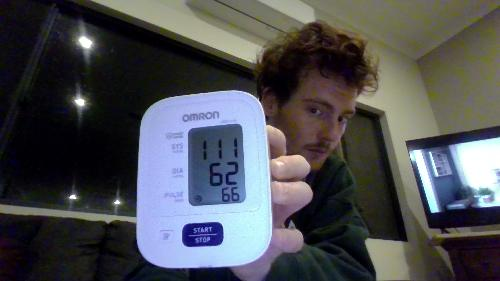bpm: (181, 123, 249, 208)
